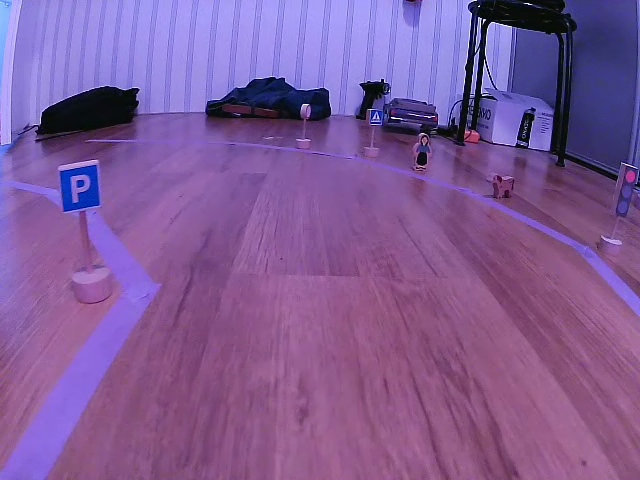mens: (412, 131, 432, 173)
paard: (488, 173, 516, 201)
parkeerbord: (57, 163, 103, 213)
roodlicht: (613, 162, 636, 217)
zebrapad: (366, 108, 382, 125)
